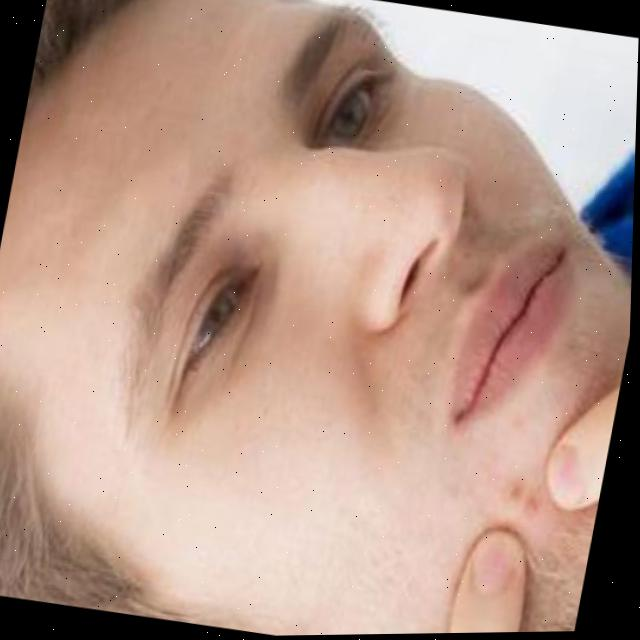Acne: (488, 485, 554, 518)
